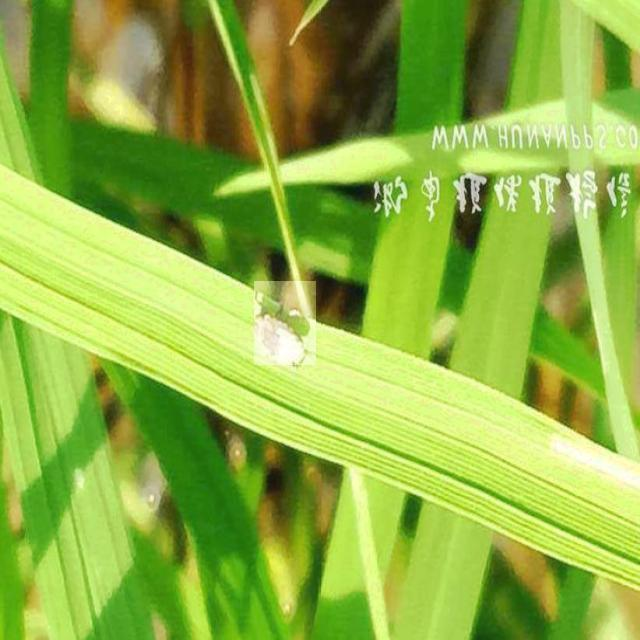rice-bug: (254, 282, 316, 366)
